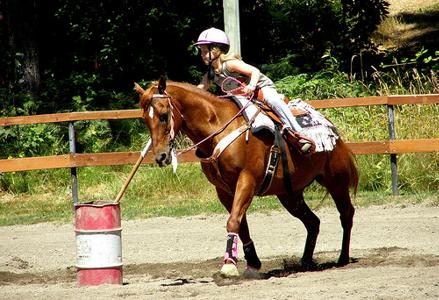person: (194, 27, 317, 157)
